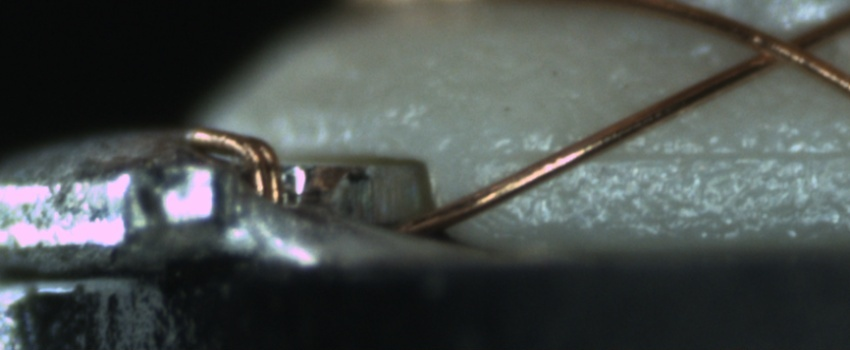CL: (740, 17, 836, 78)
DL: (491, 127, 850, 183)
TE: (176, 115, 290, 212)
